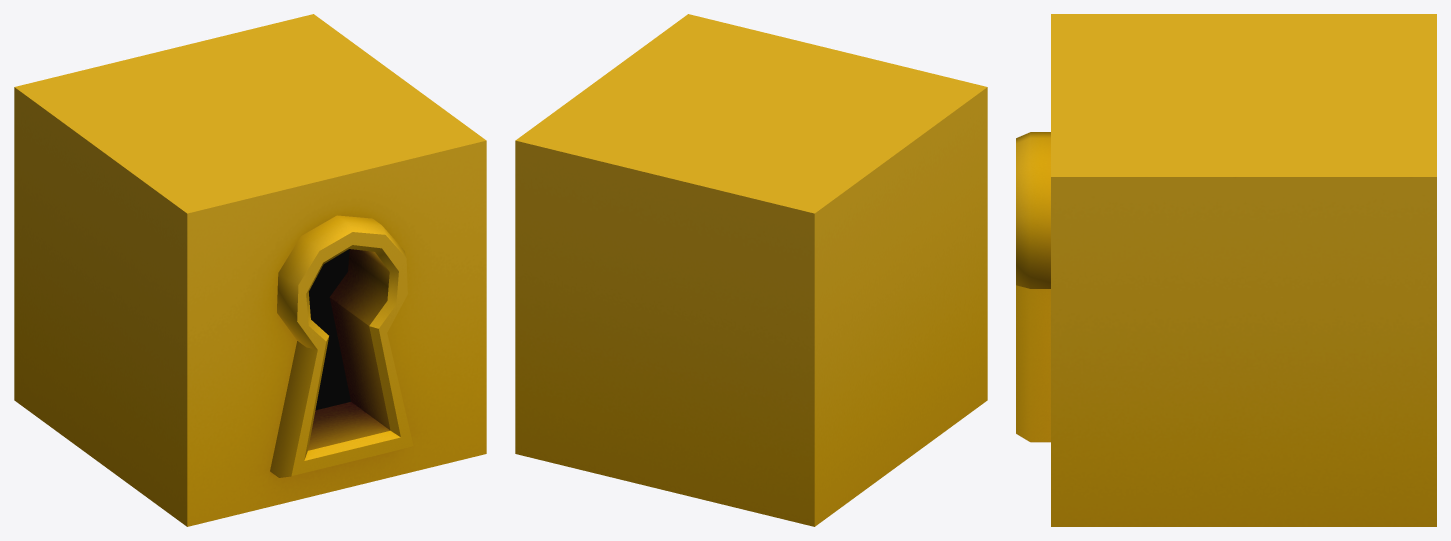
Rendered from model_keyblock.fbx.
3 renders of one model, left to right at view 1: azimuth 30°, elevation 25°; view 2: azimuth 150°, elevation 25°; view 3: azimuth 270°, elevation 25°, orthographic. The views are drawn at different scales.
Parts seen in each view (by area): view 1: keyblock; view 2: keyblock; view 3: keyblock.
Boxes of the visible parts, bbox=[...] form: keyblock: bbox=[14, 14, 486, 526]; keyblock: bbox=[515, 14, 987, 526]; keyblock: bbox=[1016, 14, 1436, 526].
Size of the model in its own units: 99.96 by 100 by 109.
